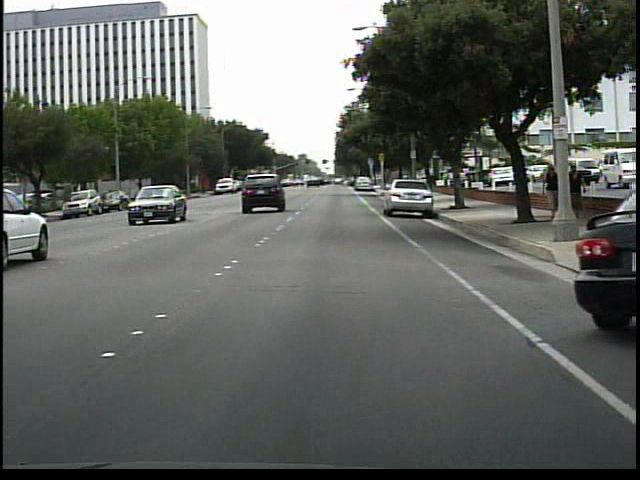person: (565, 159, 587, 220), (538, 161, 558, 223)
